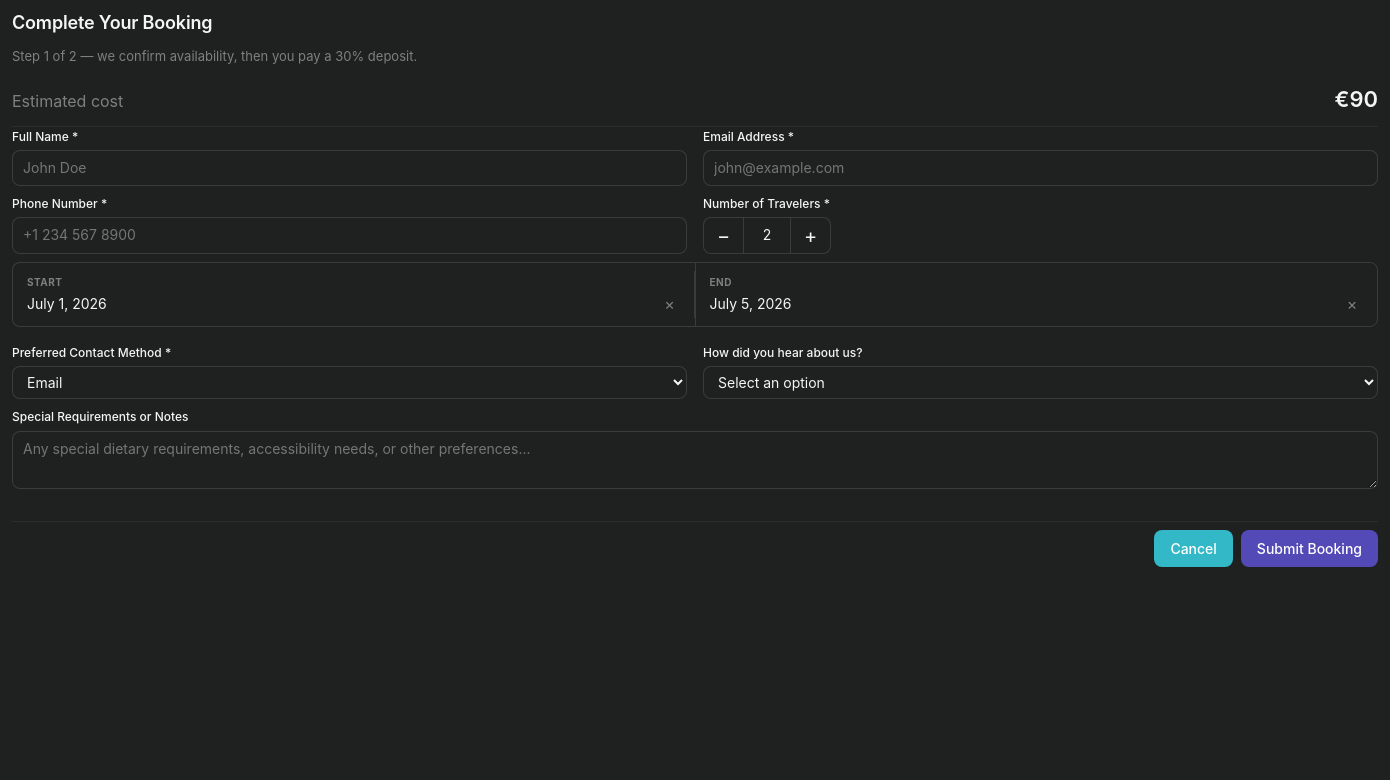
Scenario: inline mode shows the trip total and reprices it when the traveler count changes
The width and height of the screenshot is (1390, 780).
Expected: the text "Estimated cost" is shown, 12,89 -> 123,115
Expected: the text "€90" is shown, 1334,82 -> 1378,118
Click the button named "Increase travelers" at [811, 236], box 791,217 -> 831,254
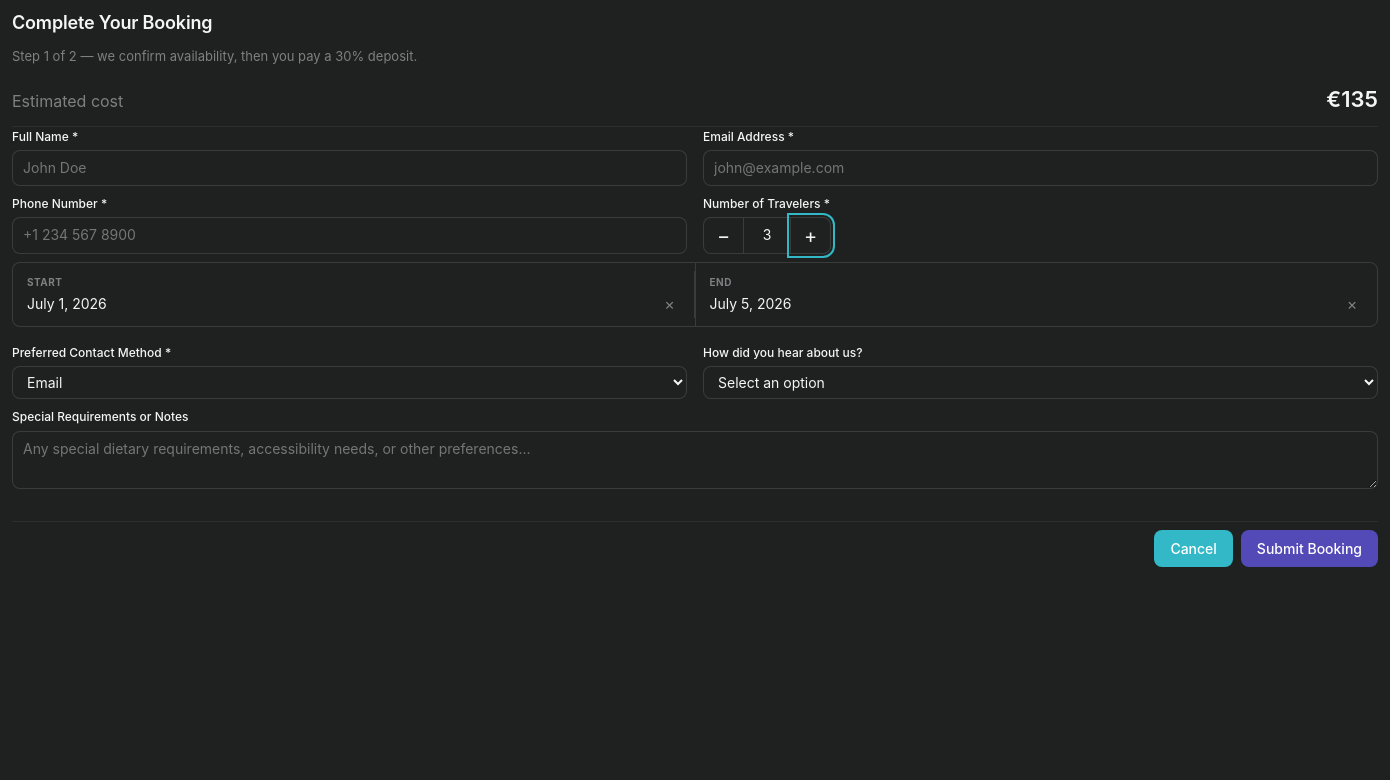
Expected: the text "€135" is shown, 1326,82 -> 1378,118
Expected: the text "€90" is gone
